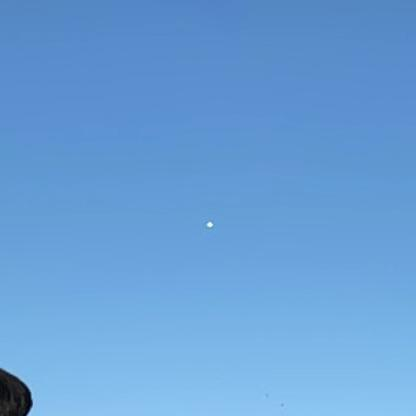golfball: (202, 217, 214, 229)
